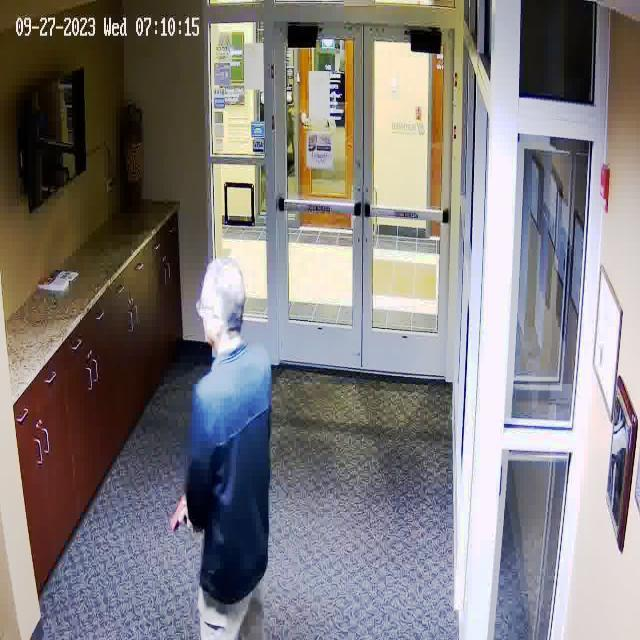Gun: (158, 492, 198, 532)
